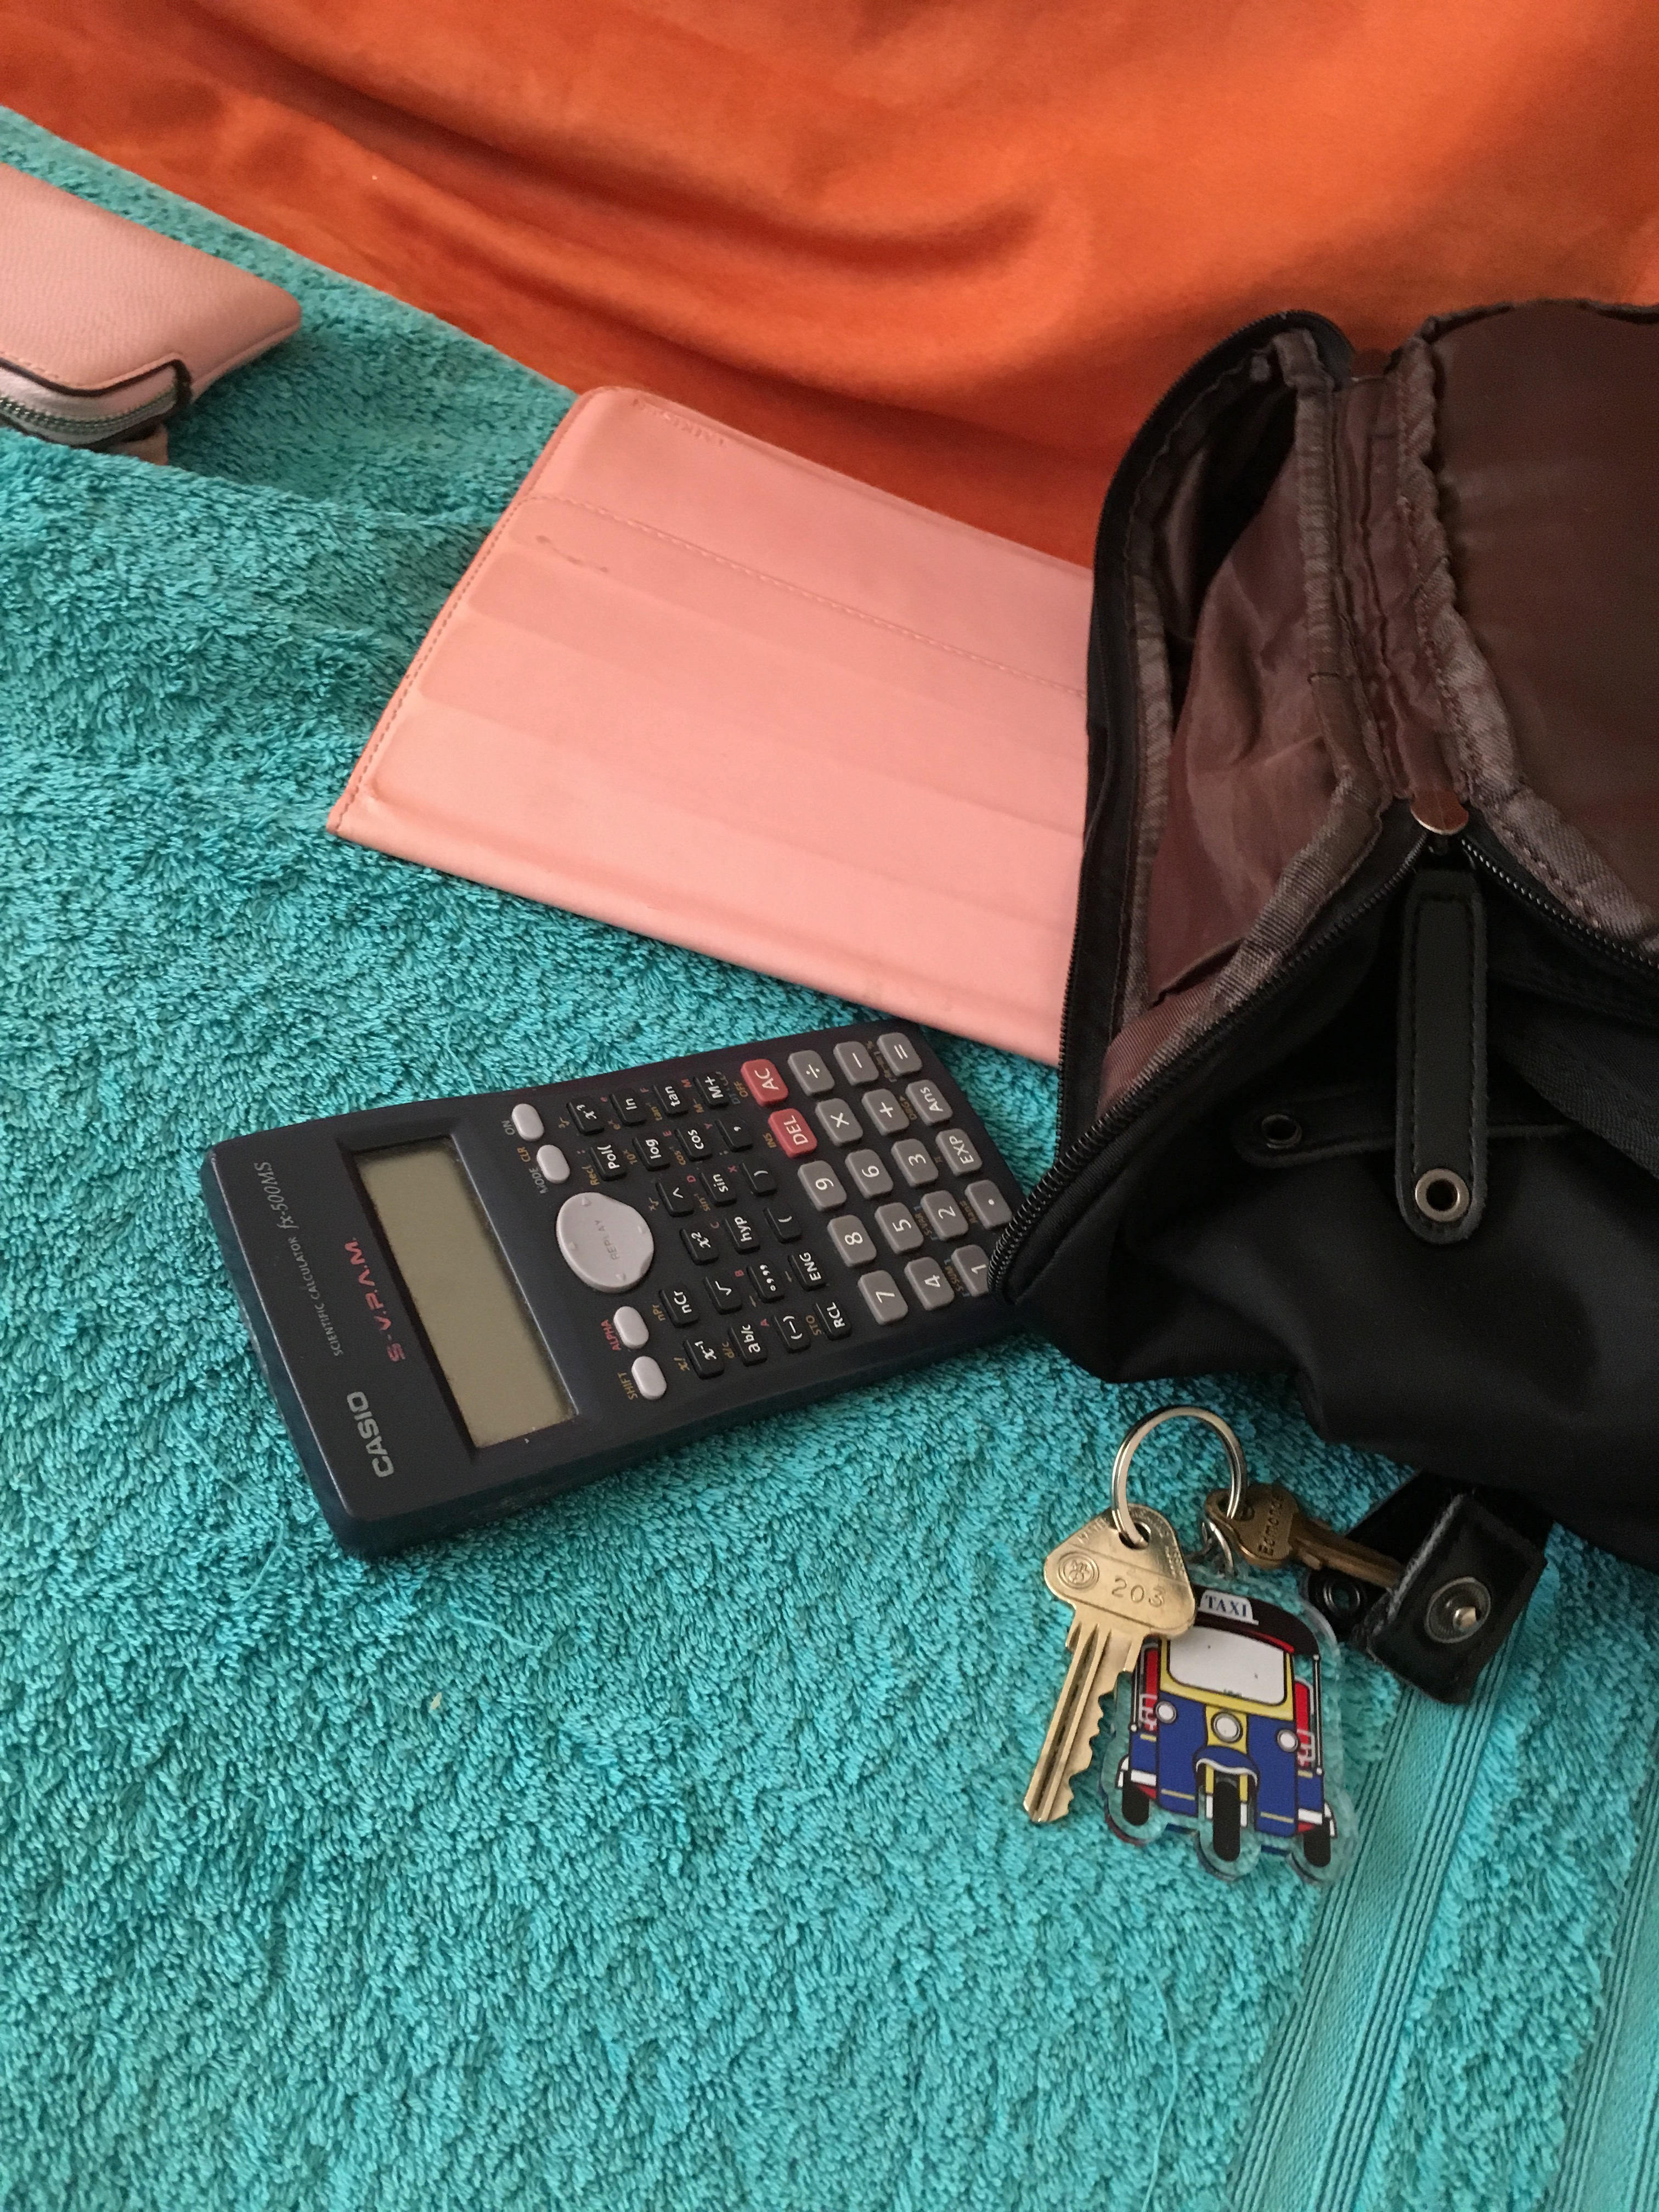Calculator: (183, 1014, 1047, 1578)
